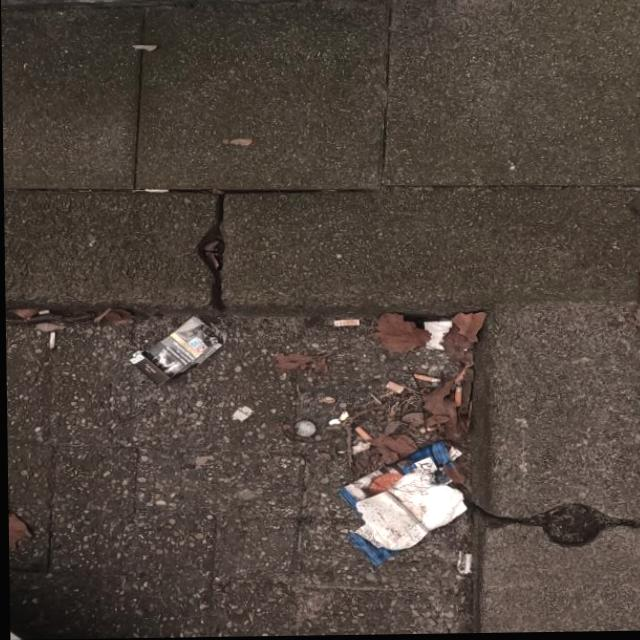Paper: (352, 468, 466, 552), (125, 315, 226, 389), (419, 321, 452, 353)
Plastic: (333, 440, 462, 518), (344, 525, 392, 569)
